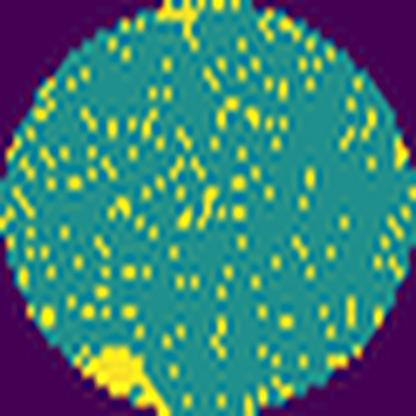Edge-Loc: (72, 336, 166, 416)
